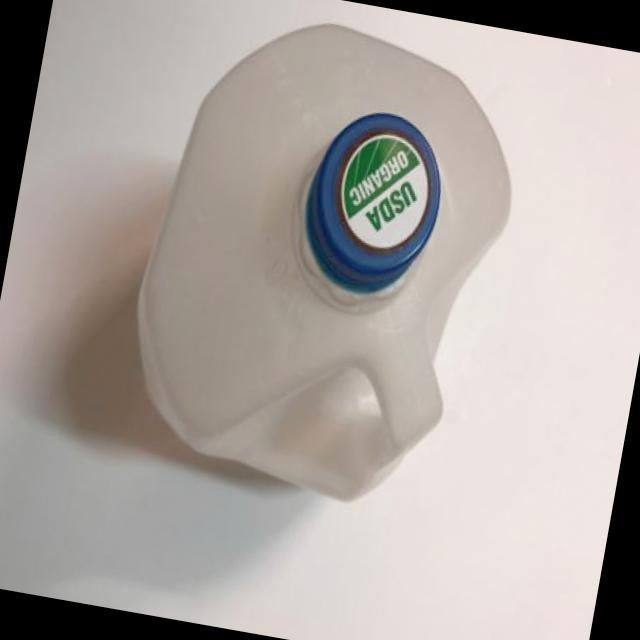HDPE Plastic: (134, 20, 516, 505)
